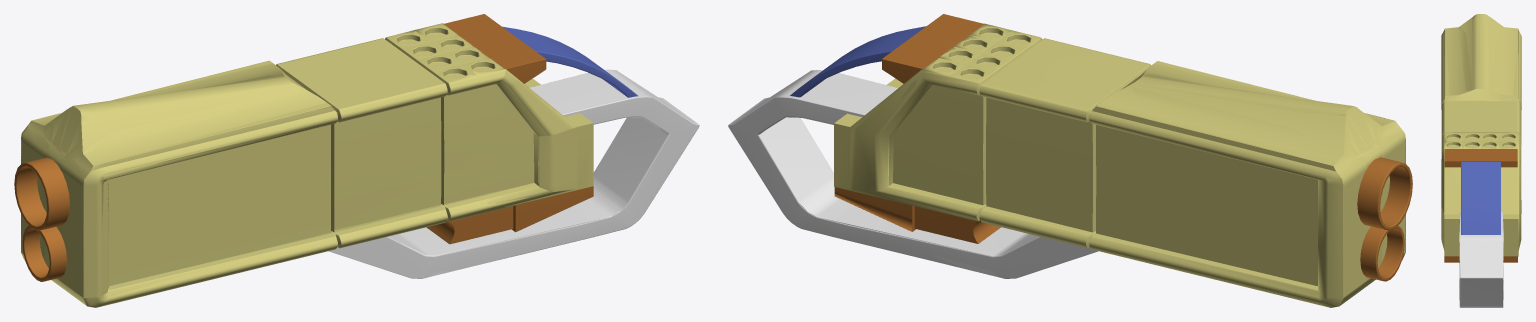
Rendered from shotgun.fr.fbx.
The picture shows the model from 3 angles, left to right: view 1: azimuth 30°, elevation 25°; view 2: azimuth 150°, elevation 25°; view 3: azimuth 270°, elevation 25°; orthographic projection. The views are drawn at different scales.
Parts seen in each view (by area): view 1: corp (×2), maner (×2), tragaci (×2), teava1, coada, extensie_c, teava2; view 2: corp (×2), maner (×2), tragaci (×2), teava1, coada, extensie_c, teava2; view 3: corp (×2), maner, extensie_c, coada, tragaci.
Part boxes in pixels (x1=…): corp (×2): x1=21, y1=23, x2=593, y2=307; maner (×2): x1=329, y1=69, x2=699, y2=278; tragaci (×2): x1=427, y1=186, x2=593, y2=244; teava1: x1=14, y1=157, x2=69, y2=230; coada: x1=443, y1=14, x2=546, y2=83; extensie_c: x1=502, y1=26, x2=637, y2=97; teava2: x1=22, y1=225, x2=66, y2=281; corp (×2): x1=834, y1=23, x2=1405, y2=307; maner (×2): x1=728, y1=70, x2=1098, y2=278; tragaci (×2): x1=834, y1=187, x2=1000, y2=243; teava1: x1=1357, y1=157, x2=1412, y2=230; coada: x1=882, y1=14, x2=984, y2=83; extensie_c: x1=790, y1=26, x2=926, y2=97; teava2: x1=1360, y1=225, x2=1404, y2=280; corp (×2): x1=1441, y1=14, x2=1521, y2=256; maner: x1=1459, y1=212, x2=1503, y2=307; extensie_c: x1=1461, y1=162, x2=1500, y2=234; coada: x1=1444, y1=149, x2=1517, y2=167; tragaci: x1=1444, y1=256, x2=1517, y2=262.
Bounding box in the file's own units: 73.23 × 25.59 × 13.28.
